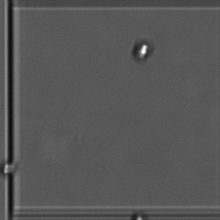Living Cell: (127, 33, 159, 67), (1, 158, 25, 182)
